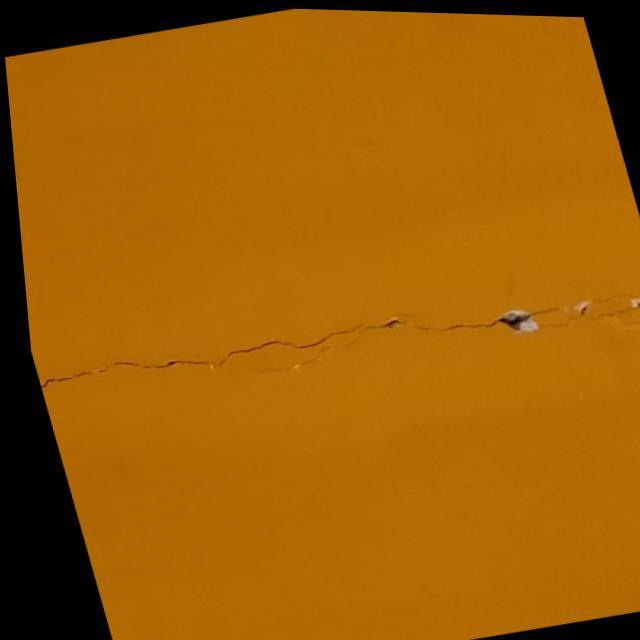Crack: (49, 297, 630, 386)
